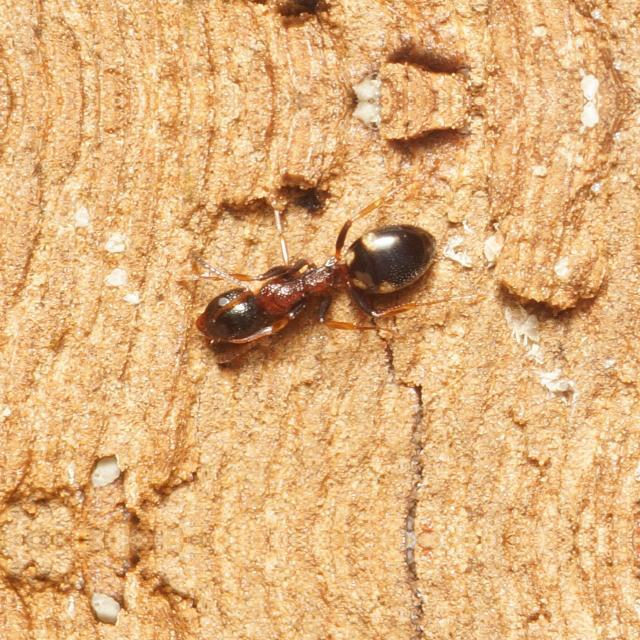Dolichoderus: (162, 198, 460, 358)
